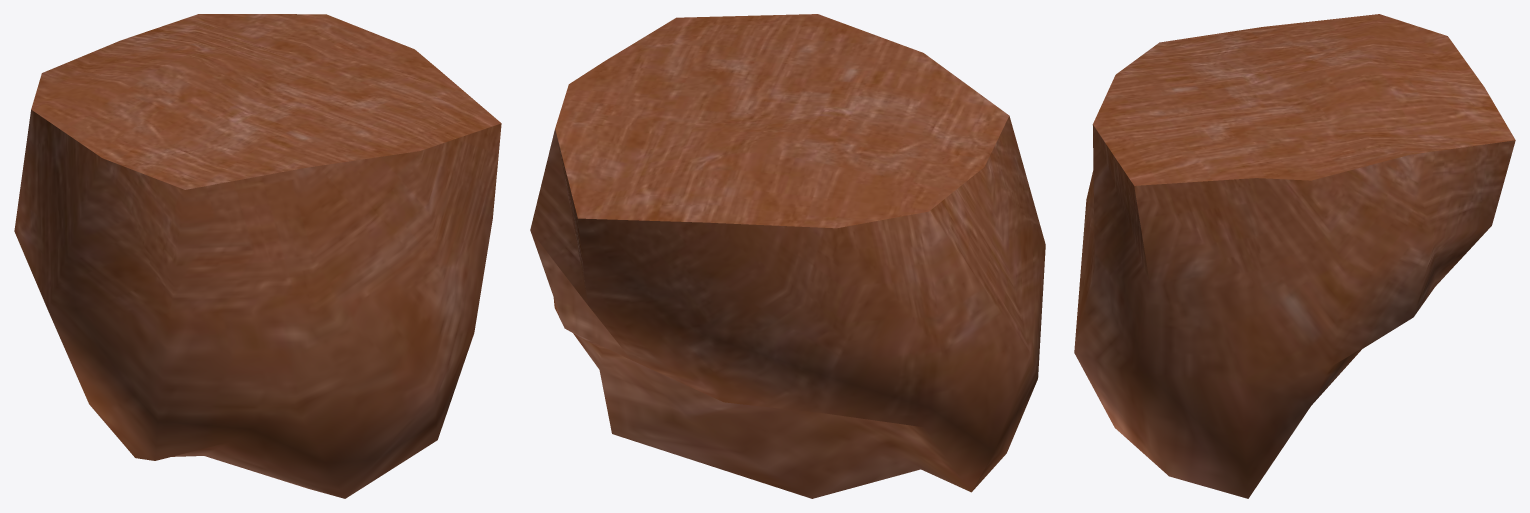
Rendered from Canyon_Rock_Platforms_4.glb.
3 views of the same model, side by side, from view 1: azimuth 30°, elevation 25°; view 2: azimuth 150°, elevation 25°; view 3: azimuth 270°, elevation 25° (orthographic). The views are drawn at different scales.
Visible parts, largest first — view 1: Canyon_Rock_Platforms_4_0; view 2: Canyon_Rock_Platforms_4_0; view 3: Canyon_Rock_Platforms_4_0.
Part boxes in pixels (x1=…): Canyon_Rock_Platforms_4_0: x1=14, y1=14, x2=501, y2=498; Canyon_Rock_Platforms_4_0: x1=530, y1=14, x2=1045, y2=498; Canyon_Rock_Platforms_4_0: x1=1074, y1=14, x2=1515, y2=498.
Bounding box in the file's own units: 5.2 × 4.73 × 5.09.
1 material, 1 textured.
